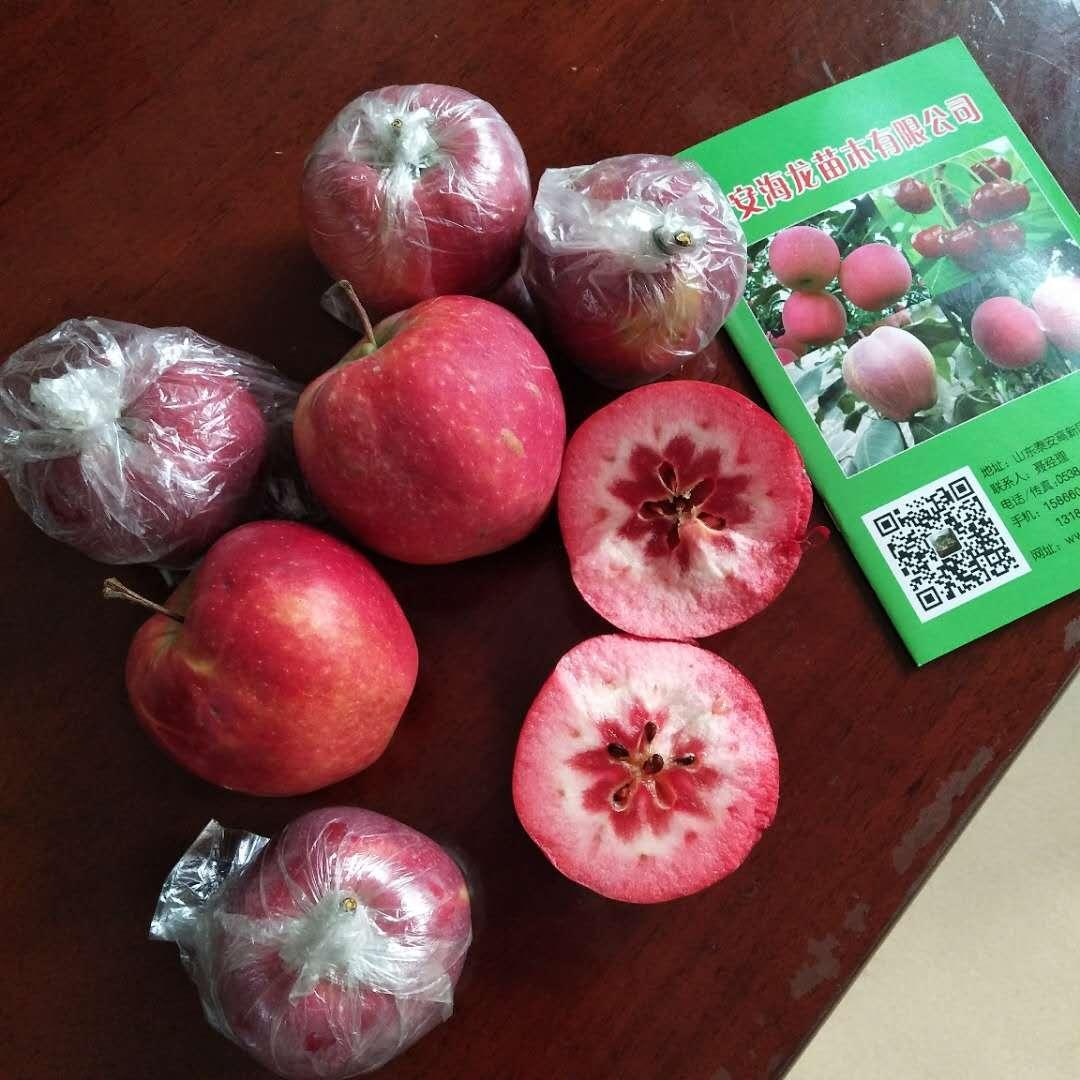apple: (124, 520, 419, 796), (293, 296, 566, 568), (508, 634, 779, 902), (205, 809, 476, 1077), (556, 383, 817, 639), (300, 81, 536, 318), (15, 339, 261, 561), (522, 157, 743, 374)
